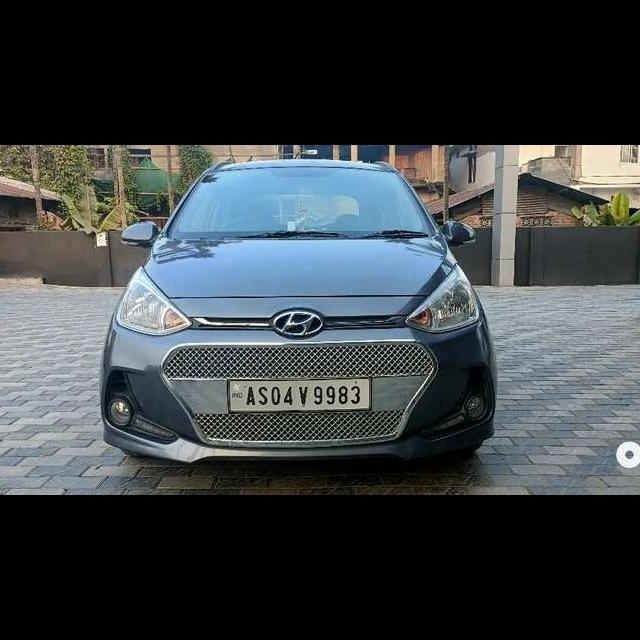Indian_Number_Plate: (228, 378, 372, 410)
